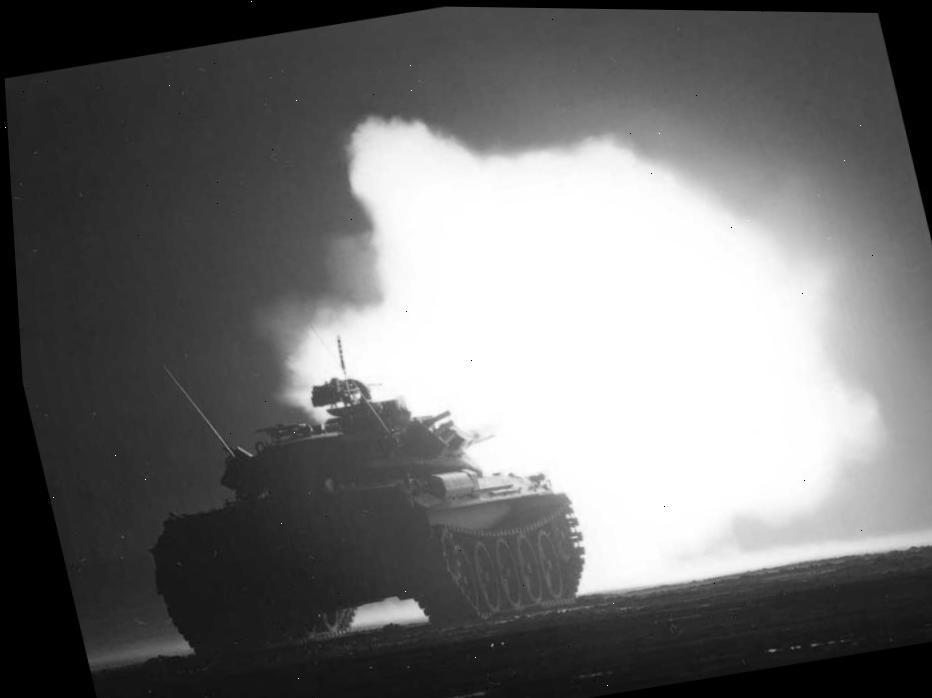tank: (108, 333, 605, 685)
